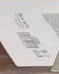1d: (15, 28, 41, 50)
